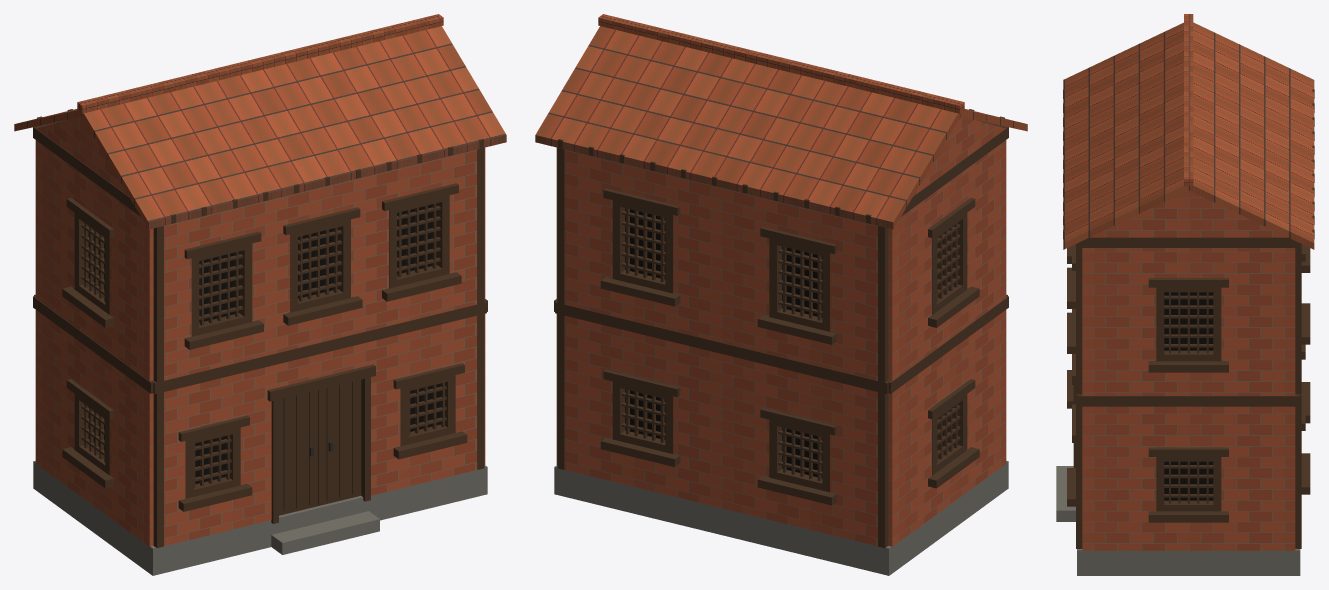
File: building01_residence.glb
The picture shows the model from 3 angles, left to right: view 1: azimuth 30°, elevation 25°; view 2: azimuth 150°, elevation 25°; view 3: azimuth 270°, elevation 25°; orthographic projection. The views are drawn at different scales.
Visible parts, largest first — view 1: Wall_Front, Tiled_Roof_And_Ridge, Wall_Left, Stone_Plinth_And_Step, Plain_Timber_Bands_And_Corners, Closed_Double_Door, Window_Front_03, Window_Front_04, Window_Front_05, Window_Front_02, Window_Front_01, Window_Left_02 (+2 smaller); view 2: Wall_Back, Tiled_Roof_And_Ridge, Wall_Left, Plain_Timber_Bands_And_Corners, Stone_Plinth_And_Step, Window_Back_03, Window_Back_04, Window_Back_01, Window_Back_02, Window_Left_02, Window_Left_01, Gable_Left; view 3: Wall_Right, Tiled_Roof_And_Ridge, Plain_Timber_Bands_And_Corners, Stone_Plinth_And_Step, Window_Right_02, Window_Right_01, Gable_Right, Window_Back_01, Window_Back_03, Window_Front_02, Window_Front_05, Window_Front_04 (+1 smaller).
Boxes of the visible parts, bbox=[...] form: Wall_Front: bbox=[164, 149, 477, 545]; Tiled_Roof_And_Ridge: bbox=[14, 14, 506, 229]; Wall_Left: bbox=[35, 140, 153, 546]; Stone_Plinth_And_Step: bbox=[33, 460, 487, 575]; Plain_Timber_Bands_And_Corners: bbox=[33, 109, 487, 547]; Closed_Double_Door: bbox=[267, 364, 375, 523]; Window_Front_03: bbox=[184, 231, 263, 349]; Window_Front_04: bbox=[283, 207, 362, 325]; Window_Front_05: bbox=[382, 183, 461, 301]; Window_Front_02: bbox=[393, 363, 467, 459]; Window_Front_01: bbox=[178, 415, 252, 511]; Window_Left_02: bbox=[62, 198, 113, 327]; Wall_Back: bbox=[564, 149, 877, 545]; Tiled_Roof_And_Ridge: bbox=[535, 14, 1027, 229]; Wall_Left: bbox=[888, 140, 1006, 546]; Plain_Timber_Bands_And_Corners: bbox=[554, 109, 1008, 547]; Stone_Plinth_And_Step: bbox=[554, 460, 1008, 575]; Window_Back_03: bbox=[600, 188, 680, 306]; Window_Back_04: bbox=[757, 226, 836, 344]; Window_Back_01: bbox=[600, 369, 680, 466]; Window_Back_02: bbox=[757, 408, 836, 505]; Window_Left_02: bbox=[928, 198, 979, 327]; Window_Left_01: bbox=[928, 379, 979, 488]; Gable_Left: bbox=[913, 116, 1005, 196]; Wall_Right: bbox=[1082, 248, 1295, 550]; Tiled_Roof_And_Ridge: bbox=[1063, 14, 1314, 249]; Plain_Timber_Bands_And_Corners: bbox=[1063, 89, 1314, 548]; Stone_Plinth_And_Step: bbox=[1056, 466, 1300, 575]; Window_Right_02: bbox=[1148, 278, 1228, 372]; Window_Right_01: bbox=[1148, 447, 1228, 522]; Gable_Right: bbox=[1090, 190, 1287, 237]; Window_Back_01: bbox=[1301, 389, 1310, 494]; Window_Back_03: bbox=[1301, 244, 1310, 344]; Window_Front_02: bbox=[1067, 404, 1075, 506]; Window_Front_05: bbox=[1067, 244, 1075, 353]; Window_Front_04: bbox=[1067, 267, 1075, 308].
Bounding box in the file's own units: 6.22 × 7.09 × 4.12.
6 materials, 2 textured.
